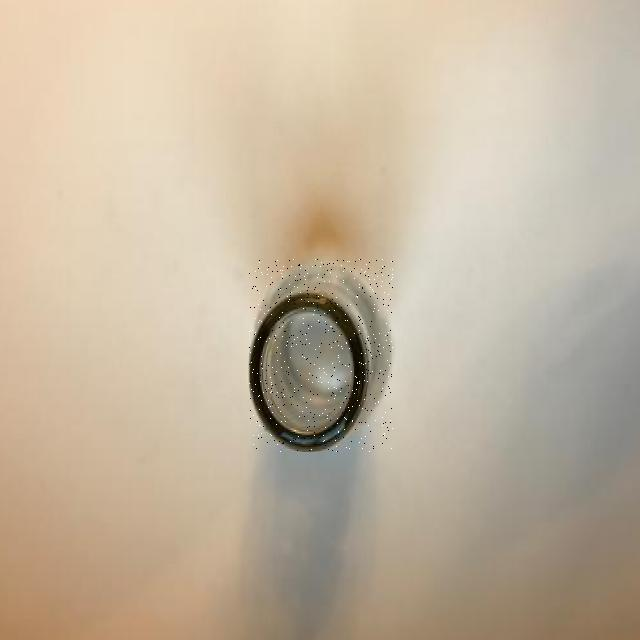glass: (250, 259, 393, 452)
